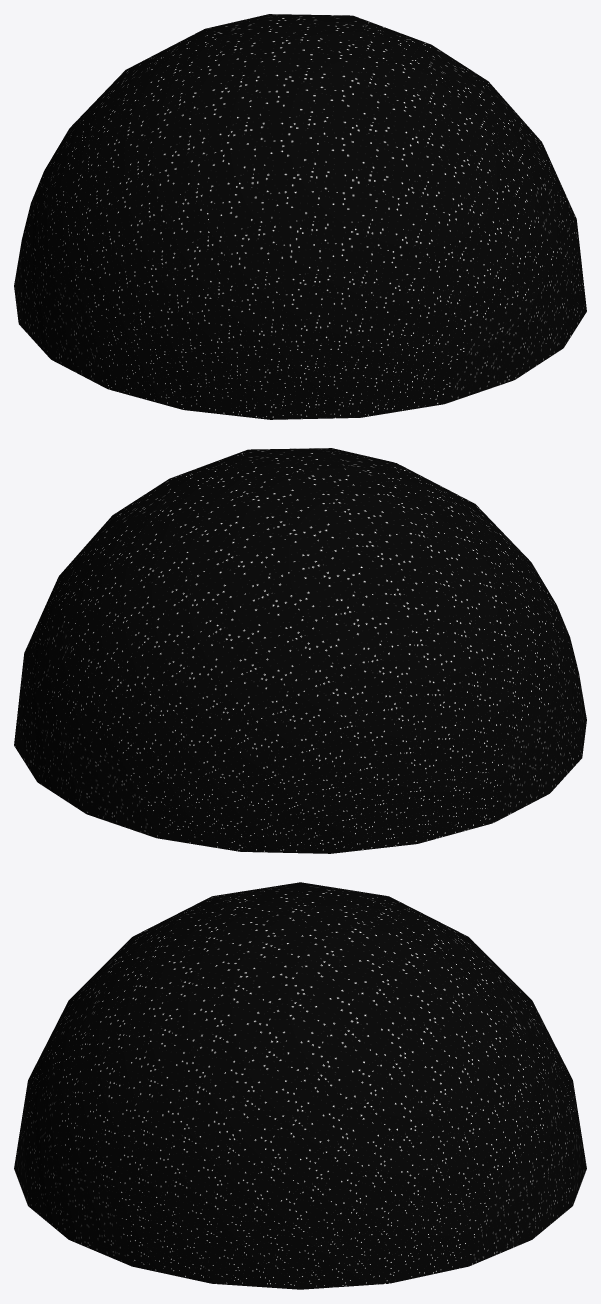
Rendered from StarDome 1.fbx.
The picture shows the model from 3 angles, top to bottom: view 1: azimuth 30°, elevation 25°; view 2: azimuth 150°, elevation 25°; view 3: azimuth 270°, elevation 25°; orthographic projection.
Visible parts, largest first — view 1: Icosphere; view 2: Icosphere; view 3: Icosphere.
Boxes of the visible parts, x1,y1,x2,y2 form: Icosphere: (14,14,586,419); Icosphere: (14,448,586,853); Icosphere: (14,882,586,1289).
Bounding box in the file's own units: 100 × 50 × 100.
